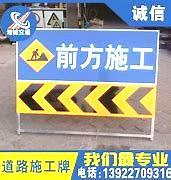sign: (16, 27, 155, 120)
